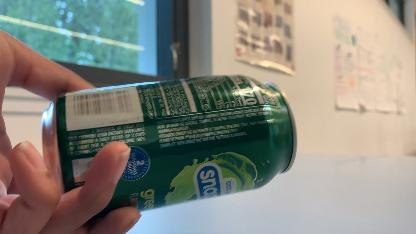Can: (34, 69, 306, 214)
